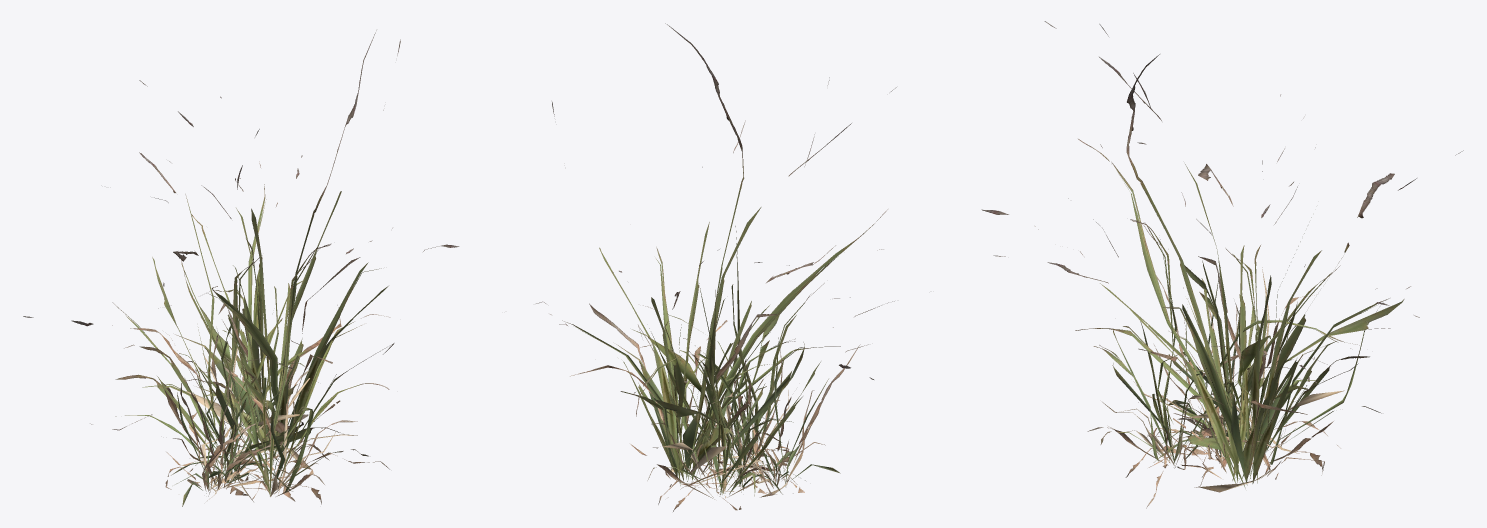
Rendered from herbe-seche.glb.
3 renders of one model, left to right at view 1: azimuth 30°, elevation 25°; view 2: azimuth 150°, elevation 25°; view 3: azimuth 270°, elevation 25°, orthographic. The views are drawn at different scales.
Parts seen in each view (by area): view 1: grass_medium_02_e, grass_medium_02_d, grass_medium_02_c, grass_medium_02_b, grass_medium_02_a; view 2: grass_medium_02_e, grass_medium_02_d, grass_medium_02_c, grass_medium_02_b, grass_medium_02_a; view 3: grass_medium_02_e, grass_medium_02_d, grass_medium_02_c, grass_medium_02_b, grass_medium_02_a.
Boxes of the visible parts, x1=… form: grass_medium_02_e: x1=23, y1=30, x2=459, y2=479; grass_medium_02_d: x1=112, y1=194, x2=340, y2=501; grass_medium_02_c: x1=186, y1=243, x2=390, y2=504; grass_medium_02_b: x1=165, y1=327, x2=337, y2=506; grass_medium_02_a: x1=171, y1=330, x2=292, y2=491; grass_medium_02_e: x1=536, y1=23, x2=896, y2=504; grass_medium_02_d: x1=620, y1=283, x2=868, y2=511; grass_medium_02_c: x1=634, y1=226, x2=894, y2=465; grass_medium_02_b: x1=668, y1=337, x2=860, y2=497; grass_medium_02_a: x1=653, y1=350, x2=783, y2=494; grass_medium_02_e: x1=981, y1=21, x2=1463, y2=488; grass_medium_02_d: x1=993, y1=217, x2=1404, y2=492; grass_medium_02_c: x1=1068, y1=198, x2=1359, y2=508; grass_medium_02_b: x1=1133, y1=267, x2=1340, y2=473; grass_medium_02_a: x1=1153, y1=293, x2=1284, y2=463.
Size of the model in its own units: 0.3399 by 0.4026 by 0.3851.
Materials: 1 (1 with a texture image).
